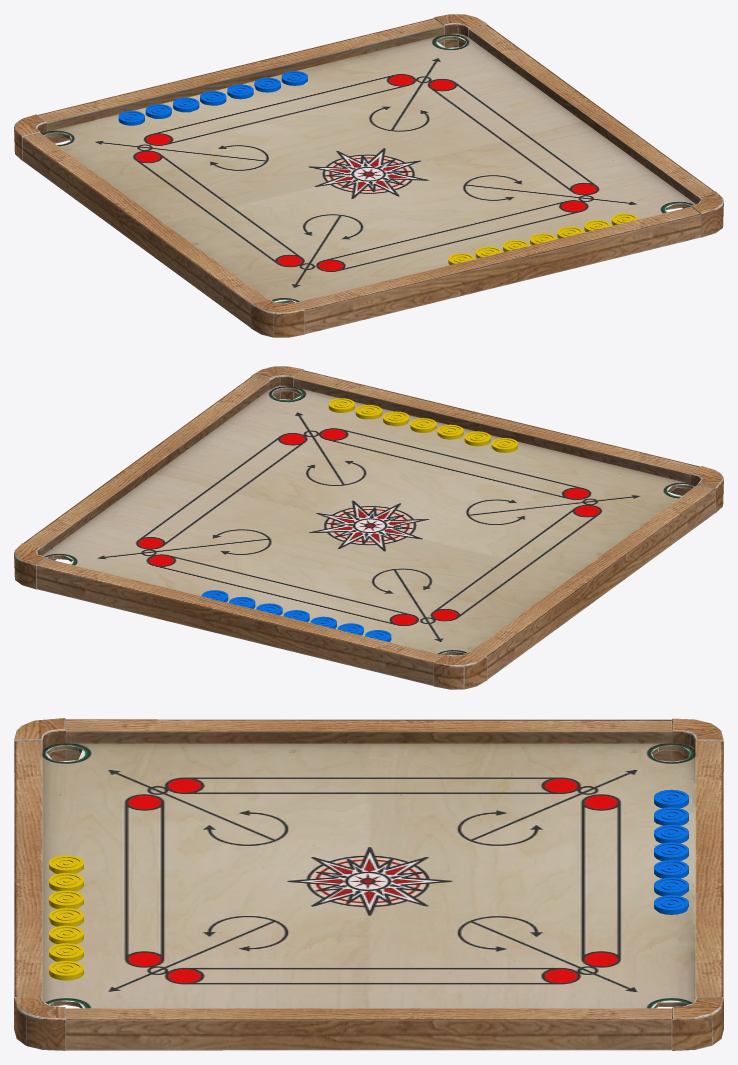
File: carrom-board.glb
3 renders of one model, top to bottom at view 1: azimuth 30°, elevation 25°; view 2: azimuth 150°, elevation 25°; view 3: azimuth 270°, elevation 25°, orthographic. The views are drawn at different scales.
Parts seen in each view (by area): view 1: Object_2, Object_4, Object_3; view 2: Object_2, Object_3, Object_4; view 3: Object_2, Object_3, Object_4.
Part boxes in pixels (left/top/right/bottom): Object_2: left=14, top=14, right=723, bottom=337; Object_4: left=118, top=71, right=307, bottom=125; Object_3: left=448, top=213, right=637, bottom=264; Object_2: left=14, top=366, right=723, bottom=689; Object_3: left=328, top=398, right=517, bottom=452; Object_4: left=201, top=590, right=391, bottom=641; Object_2: left=14, top=718, right=723, bottom=1050; Object_3: left=49, top=855, right=83, bottom=980; Object_4: left=654, top=789, right=688, bottom=914.
Bounding box in the file's own units: 0.74 × 0.0381 × 0.7386.
3 materials, 1 textured.
